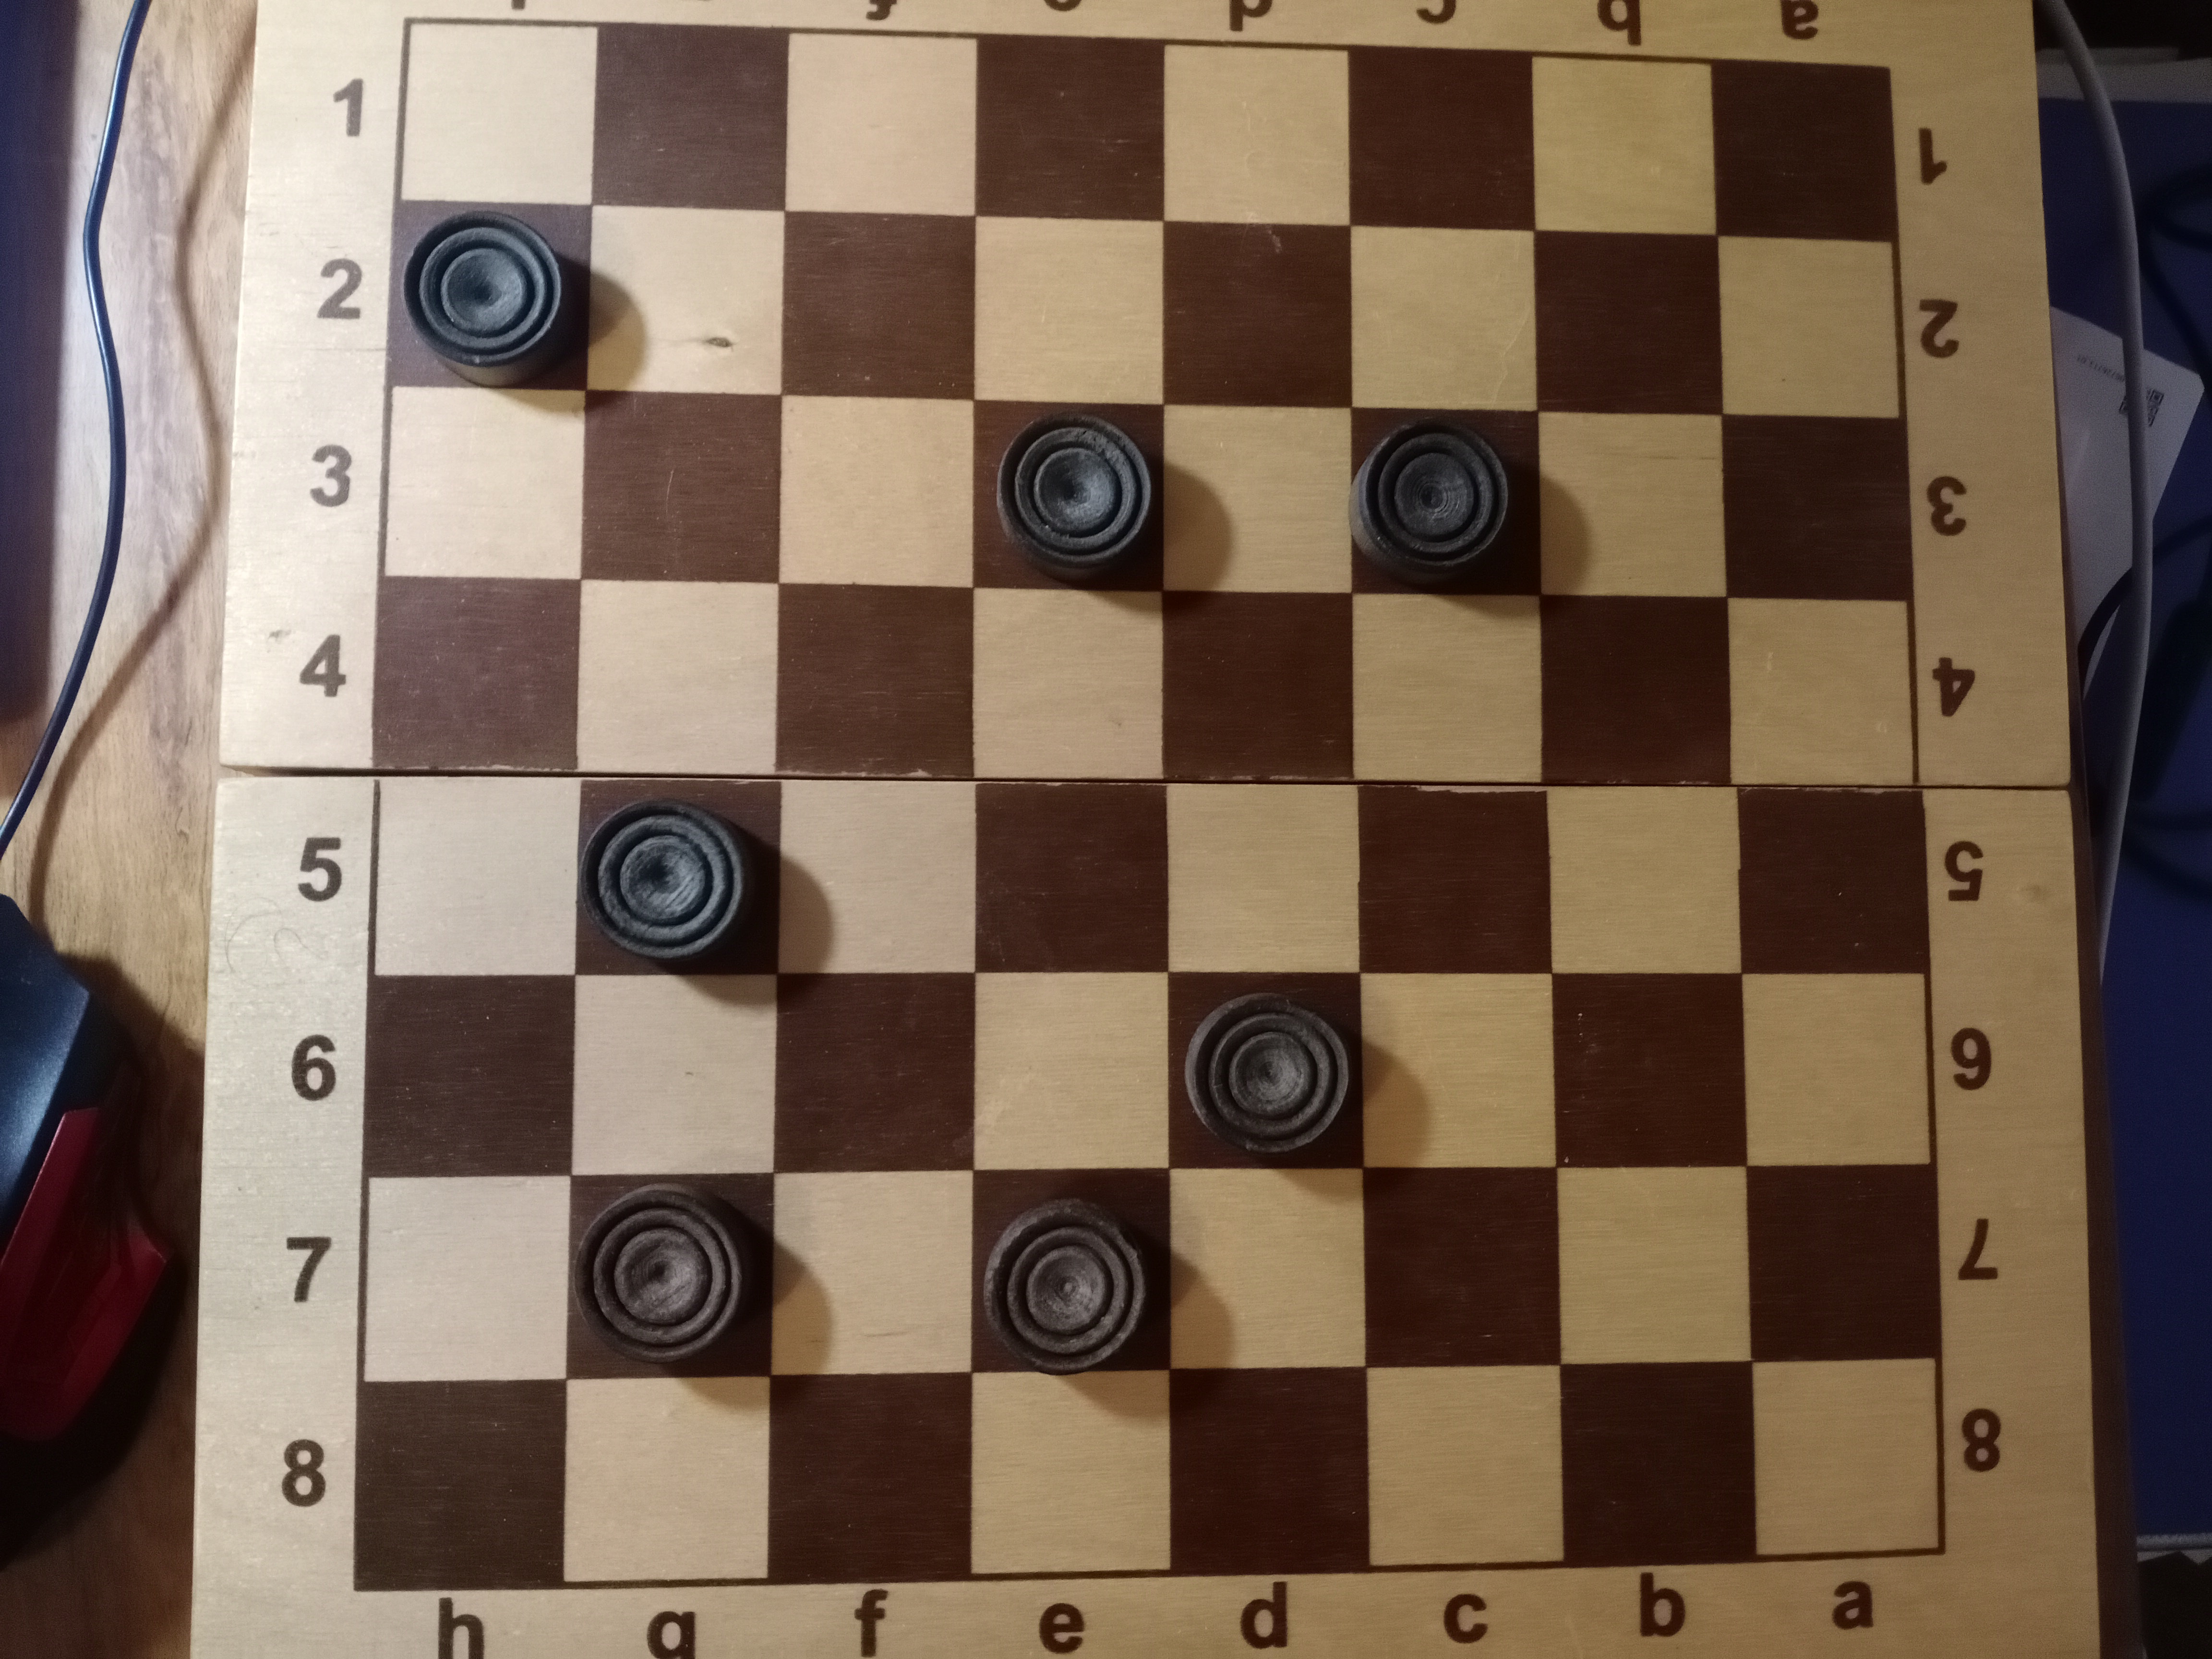Black_Draught: (974, 1171, 1172, 1375), (577, 779, 779, 978), (568, 1180, 772, 1375), (1167, 972, 1366, 1168), (390, 202, 589, 390), (975, 403, 1165, 591), (1350, 410, 1540, 596)
